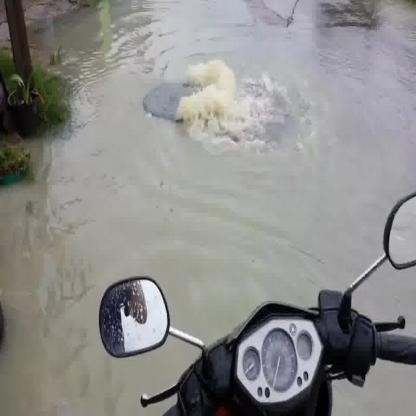drainage overflow-repair-: (136, 52, 277, 150)
